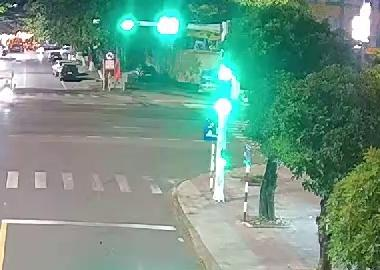green_light: (214, 63, 236, 117), (161, 13, 184, 39), (117, 12, 139, 36)
stop_line: (1, 218, 186, 230)
